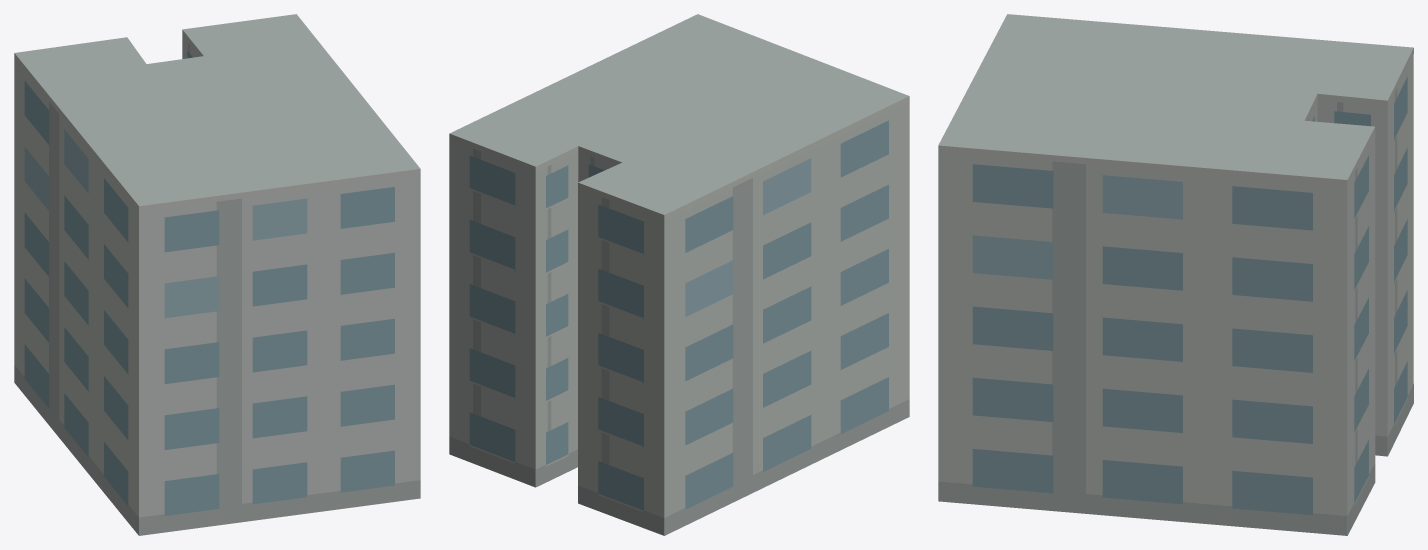
File: survey-upis-32885839.glb
3 views of the same model, side by side, from view 1: azimuth 30°, elevation 25°; view 2: azimuth 150°, elevation 25°; view 3: azimuth 270°, elevation 25° (orthographic). The views are drawn at different scales.
Visible parts, largest first — view 1: survey-upis-32885839.tmp; view 2: survey-upis-32885839.tmp; view 3: survey-upis-32885839.tmp.
Boxes of the visible parts, x1,y1,x2,y2 form: survey-upis-32885839.tmp: (14,14,420,535); survey-upis-32885839.tmp: (449,14,909,535); survey-upis-32885839.tmp: (938,14,1413,535).
Bounding box in the file's own units: 13.82 × 13.8 × 16.72.
